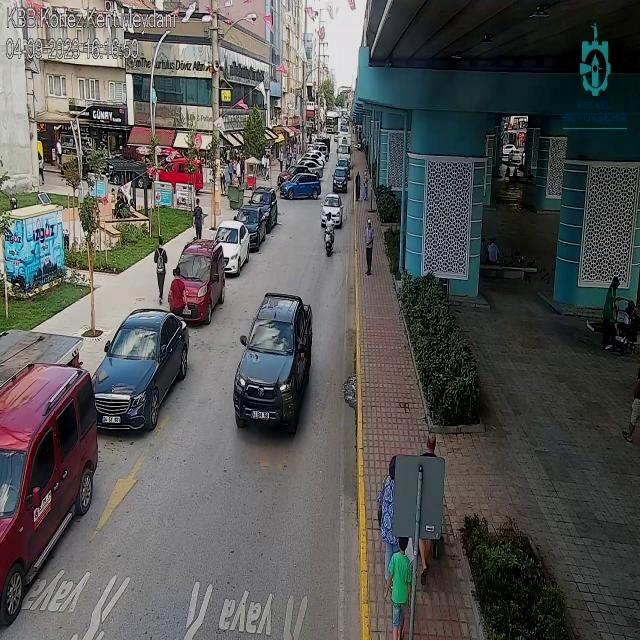Car: (87, 307, 191, 436), (230, 292, 312, 439), (164, 237, 227, 319), (212, 220, 249, 273), (238, 204, 266, 250), (279, 173, 322, 199), (250, 187, 276, 227), (320, 193, 346, 226), (331, 167, 350, 191)
Cycle: (323, 214, 336, 253)
Van: (0, 363, 96, 614)
